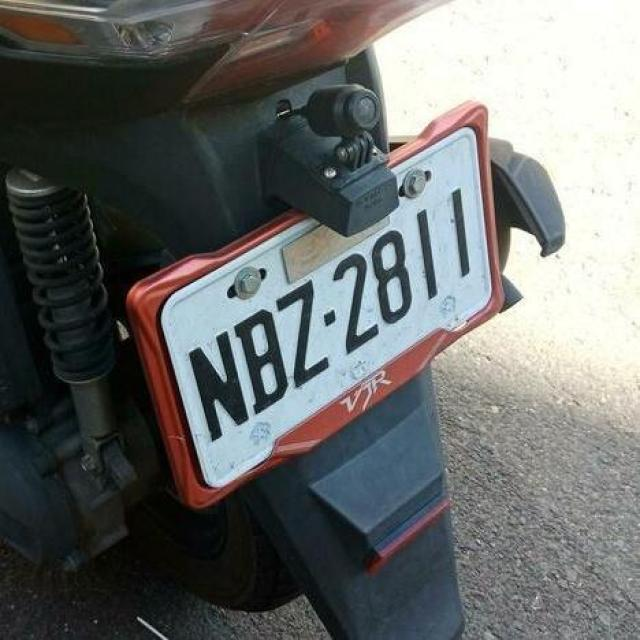W: (122, 98, 513, 516)
